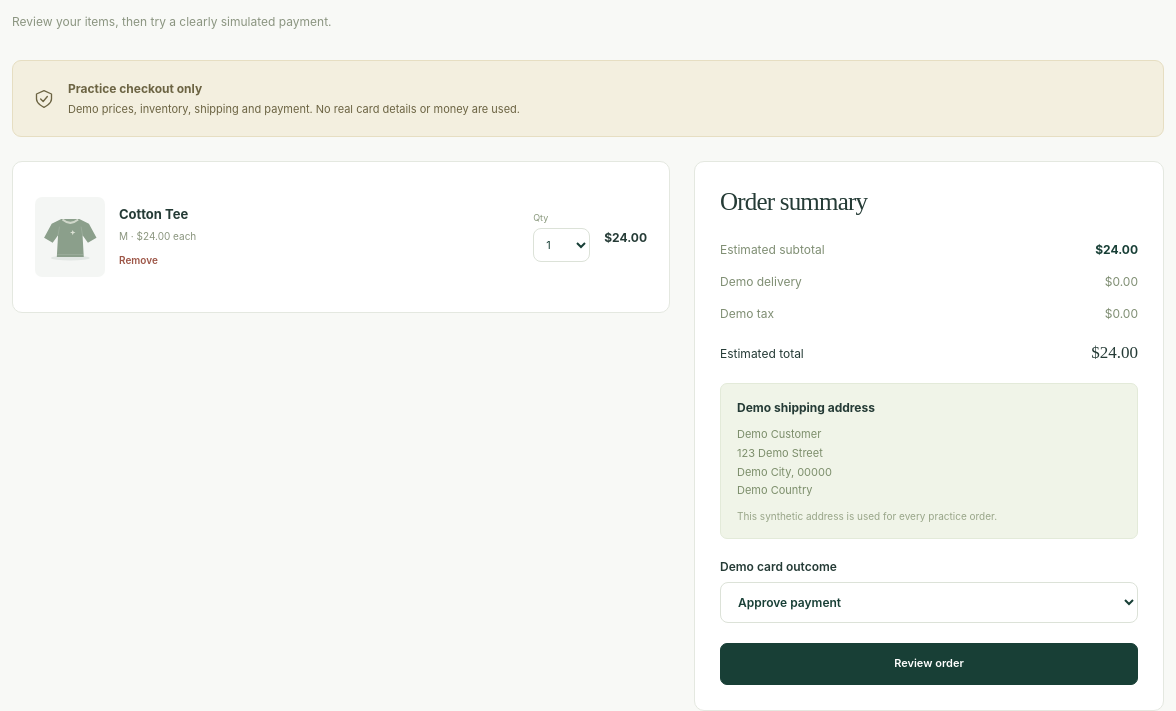
simulated checkout › asks for fresh review after a changed-price or stock conflict
(page scrolled)
Step 1. Click the button "Review order" → x=929, y=664, box [720, 643, 1138, 685]
(page scrolled)
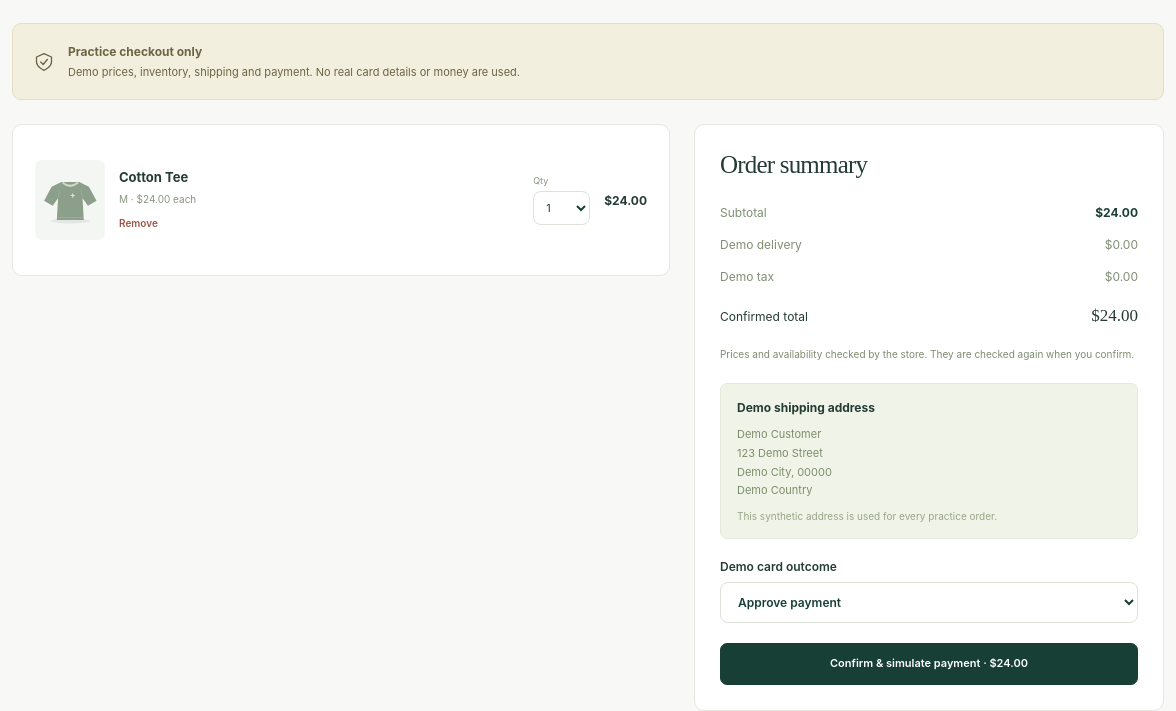
Step 2. Click the button "Confirm & simulate payment · $24.00" → x=929, y=664, box [720, 643, 1138, 685]
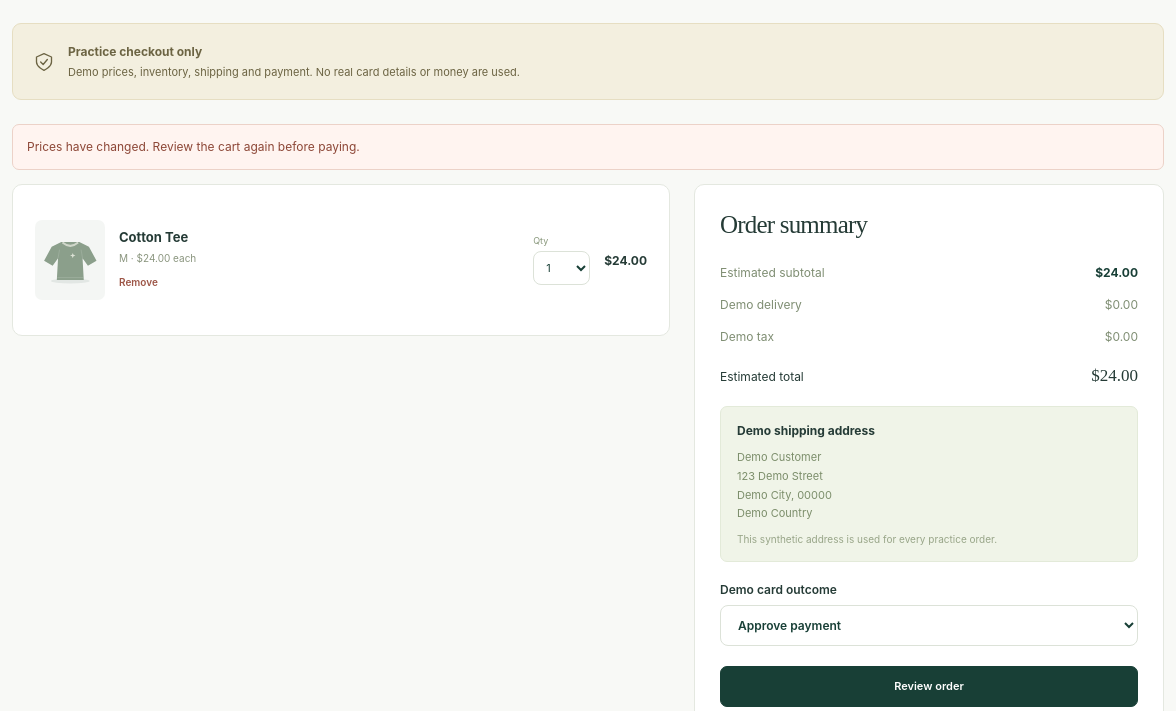
Expected: the text "Prices have changed. Review the cart again before paying." is shown, [27, 137, 360, 157]
Expected: the button "Review order" is shown, [720, 666, 1138, 707]
